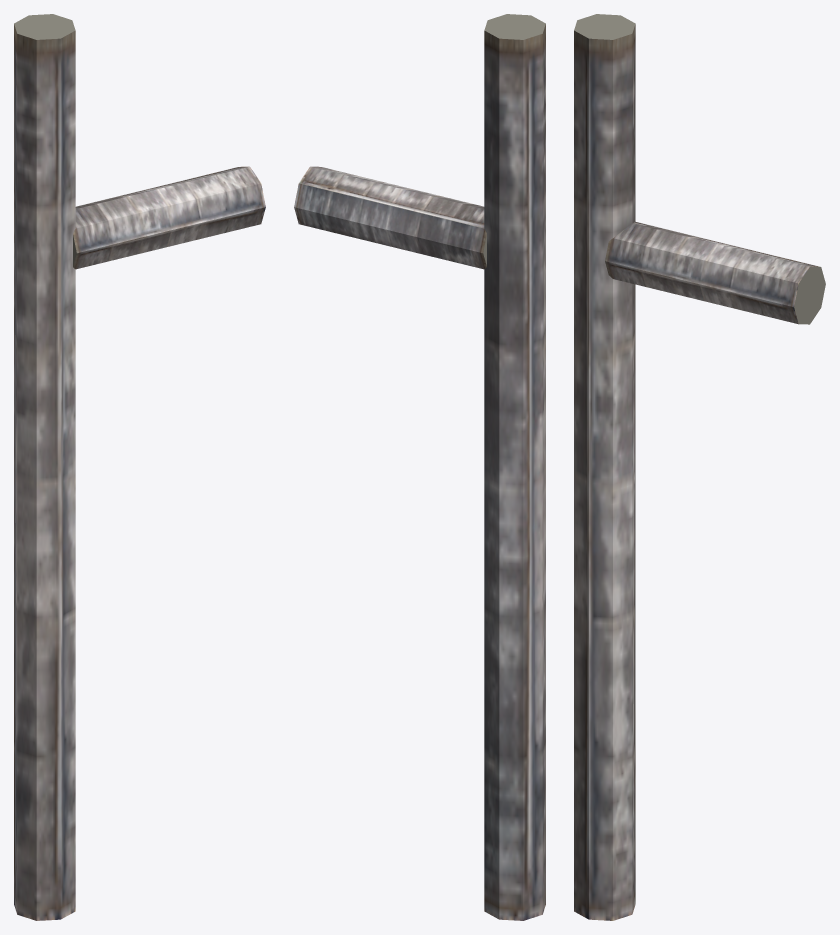
File: policebaton_wtf.obj
3 views of the same model, side by side, from view 1: azimuth 30°, elevation 25°; view 2: azimuth 150°, elevation 25°; view 3: azimuth 330°, elevation 25° (orthographic).
Parts seen in each view (by area): view 1: group4, group3; view 2: group4, group3; view 3: group4, group3.
Part boxes in pixels (x1,y1,x2,y2): group4: (14, 14, 75, 920); group3: (73, 166, 265, 269); group4: (484, 14, 545, 920); group3: (294, 166, 486, 269); group4: (574, 14, 635, 920); group3: (605, 221, 825, 324).
Size of the model in its own units: 183 by 660 by 43.26.
